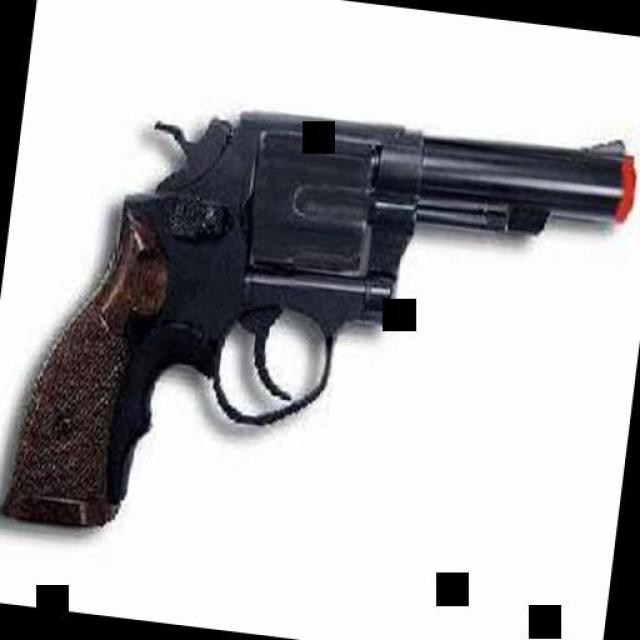gun: (0, 63, 638, 595)
